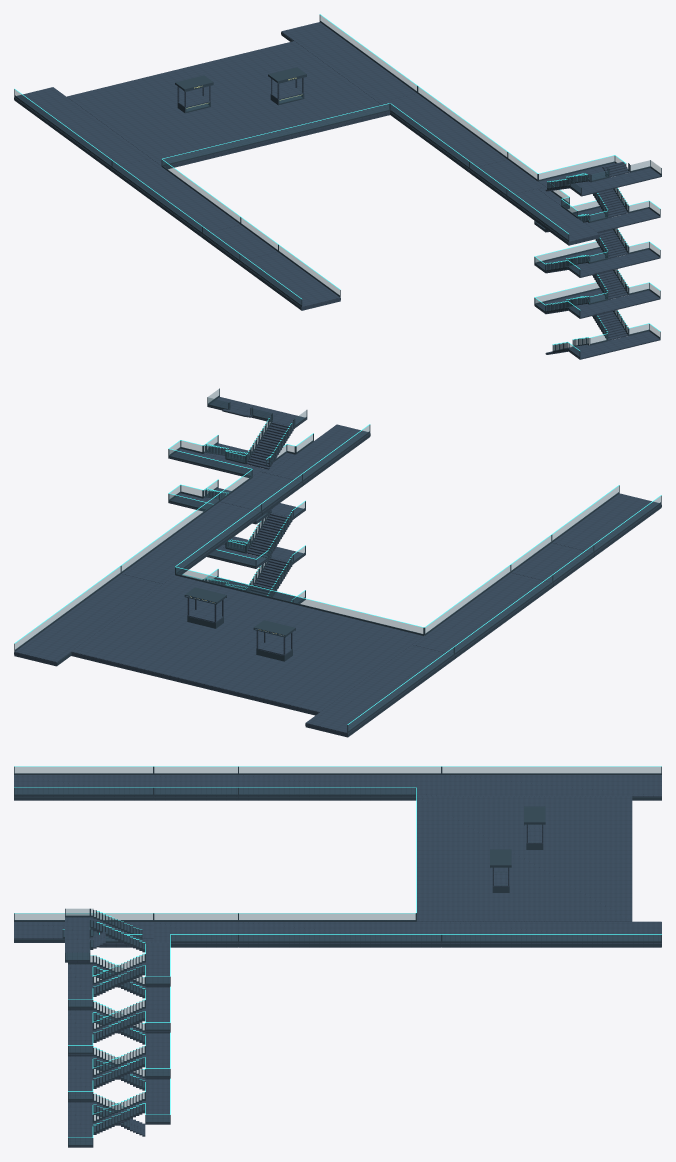
The model's file is v02-detailed-00-06.glb.
The picture shows the model from 3 angles, top to bottom: view 1: azimuth 30°, elevation 25°; view 2: azimuth 150°, elevation 25°; view 3: azimuth 270°, elevation 25°; orthographic projection. The views are drawn at different scales.
Visible parts, largest first — view 1: v02-detailed-00-06; view 2: v02-detailed-00-06; view 3: v02-detailed-00-06.
Part boxes in pixels (box(x1,y1,x2,y2)): v02-detailed-00-06: box(14, 14, 661, 359); v02-detailed-00-06: box(14, 388, 661, 737); v02-detailed-00-06: box(14, 766, 661, 1147).
Bounding box in the file's own units: 58.85 × 28.39 × 76.5.
Materials: 5 (1 with a texture image).
